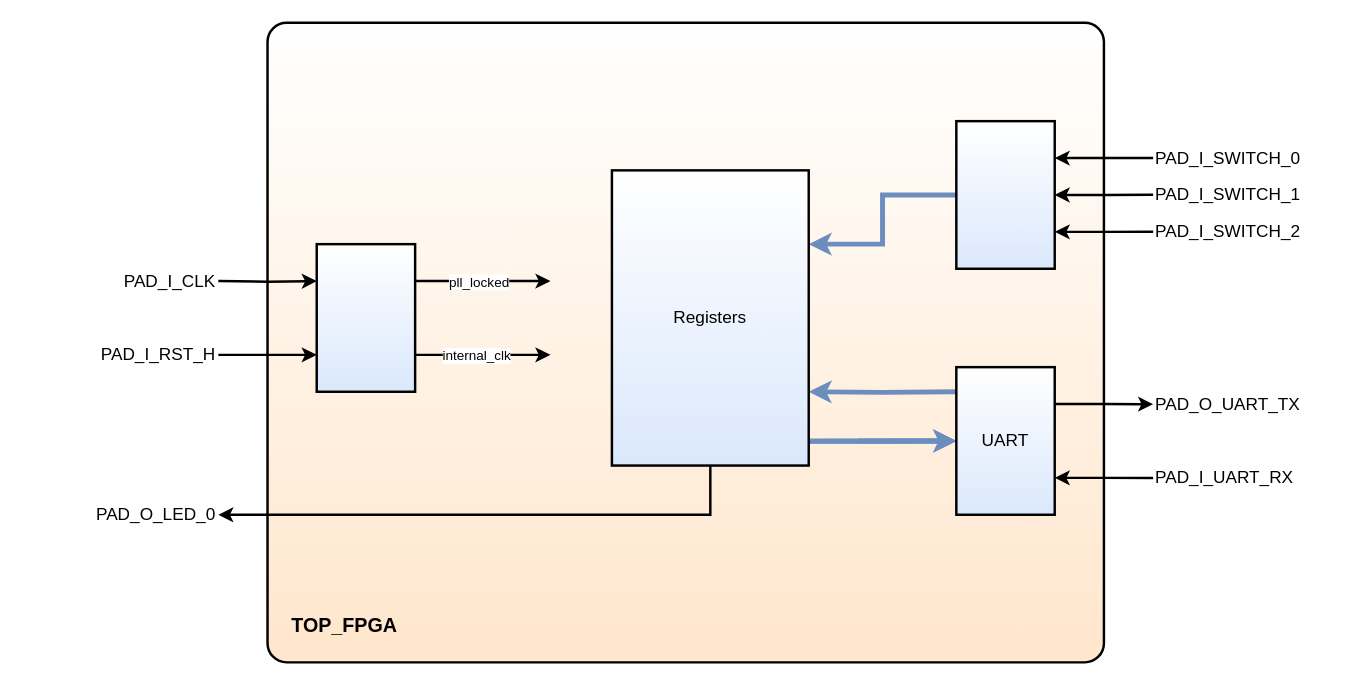
This 1370x684 diagram has some shape labels left out. Here are the shapes that lost their labels. From the top down, the centre of each, then its label:
At [1004,194]: "Resynchro".
At [365,317]: "PLL".
